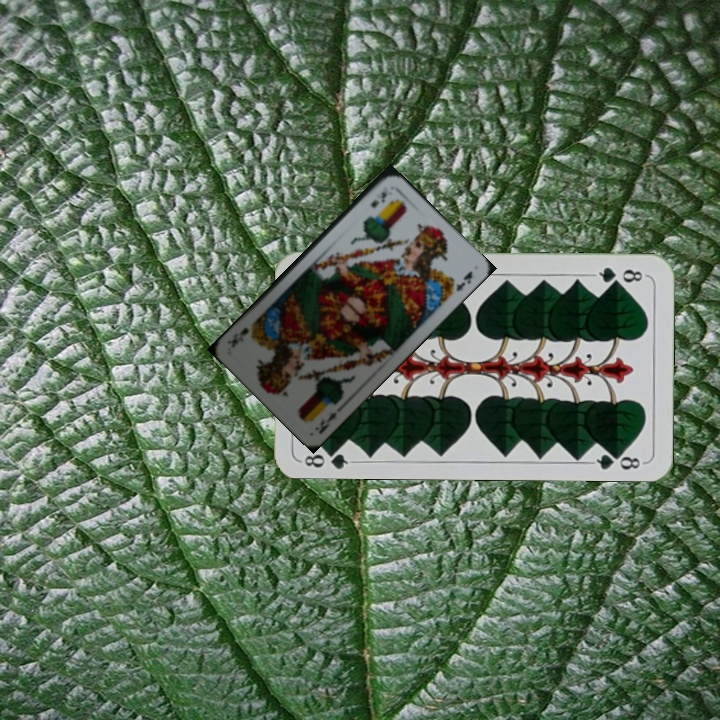EK: (314, 408, 339, 437), (366, 187, 390, 211)
G8: (298, 443, 357, 470), (589, 263, 648, 287)
